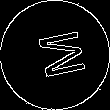M_W: (25, 27, 85, 83)
